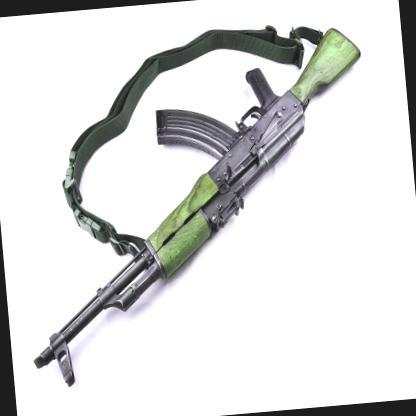rifle: (3, 0, 388, 404)
